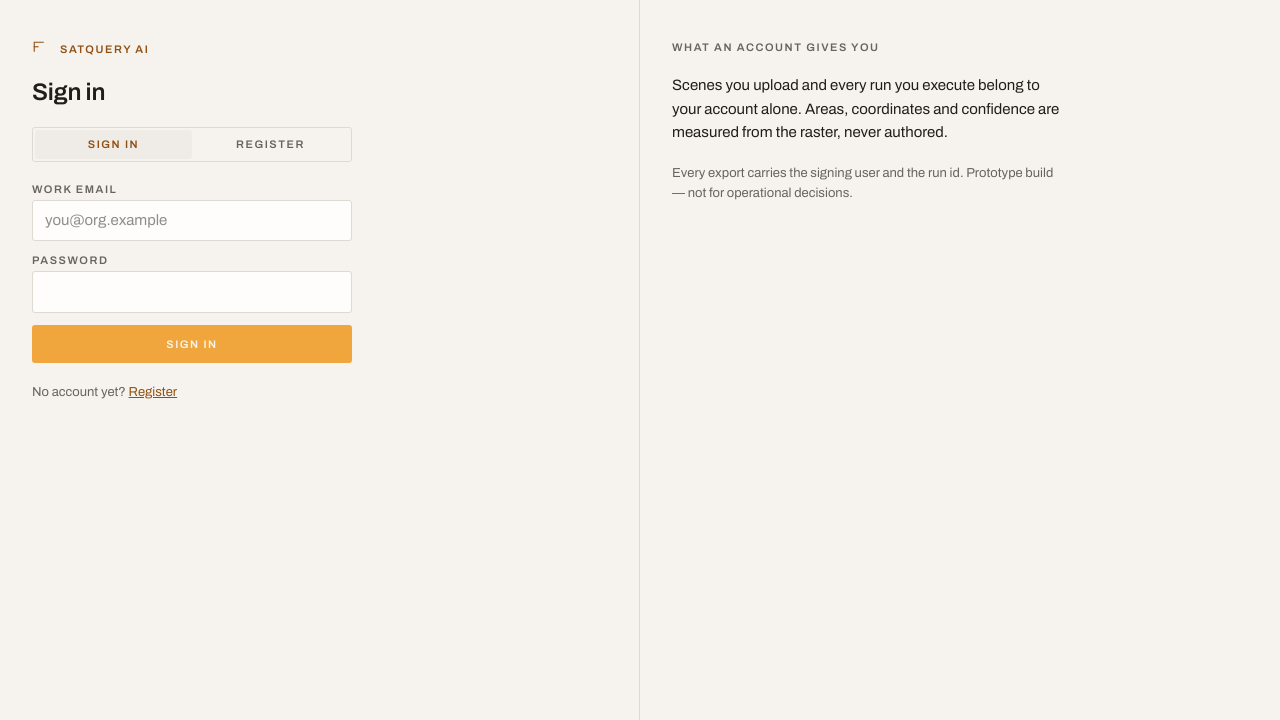
Test case: signing in › shows the backend message when the credentials are wrong
In the field labelled "Work email": (192, 221) [32,200,352,241], type "analyst@example.com"
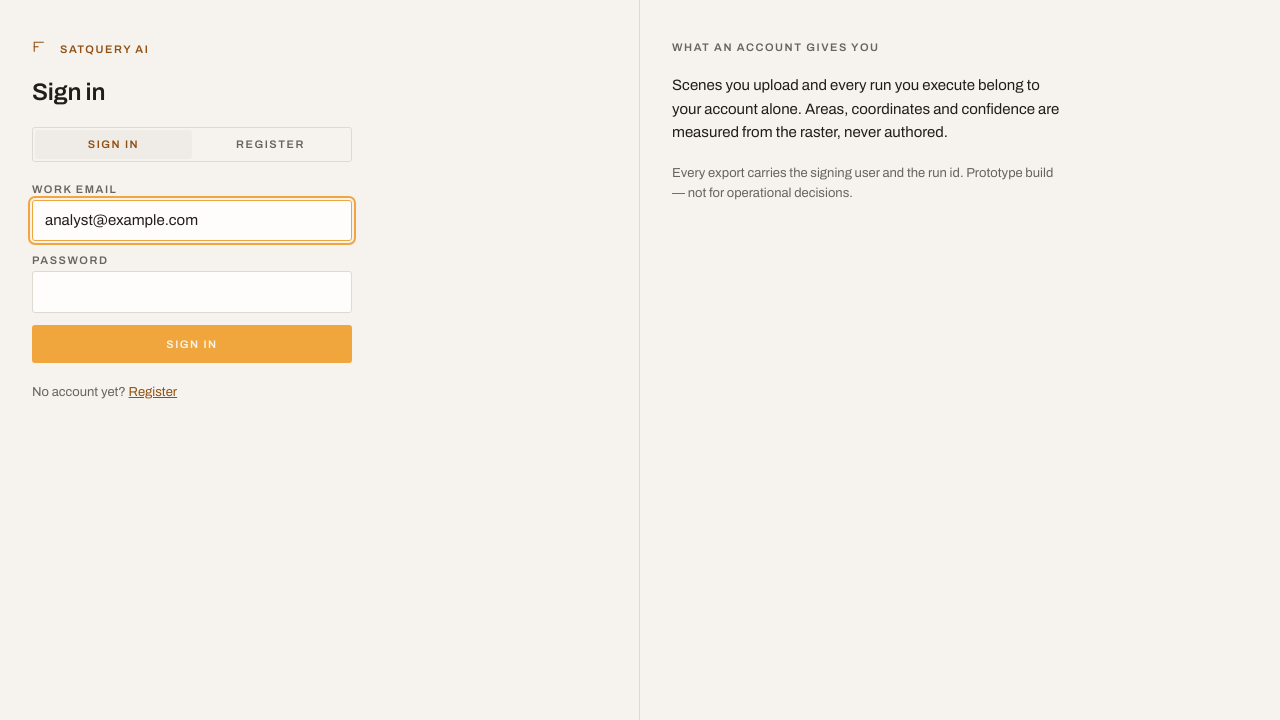
In the password field labelled "Password": (192, 292) [32,271,352,313], type "wrong-password"
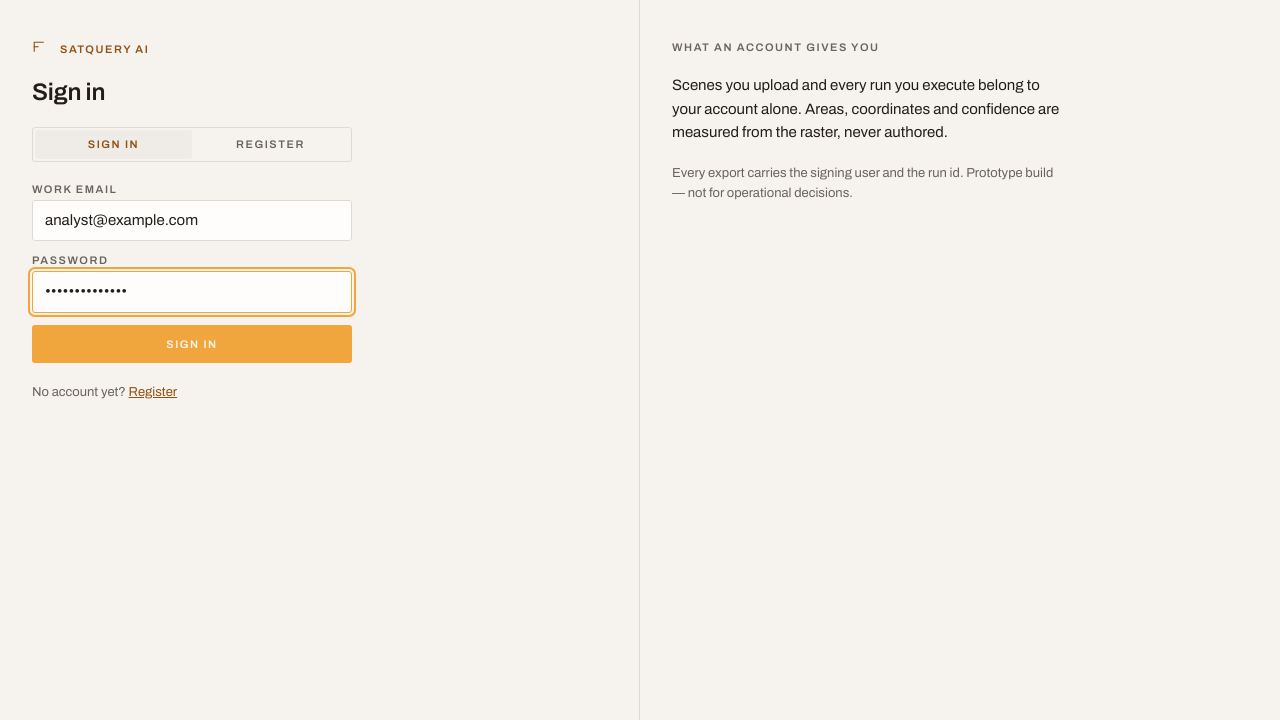
Click the button "Sign in": (192, 344) [32,325,352,363]
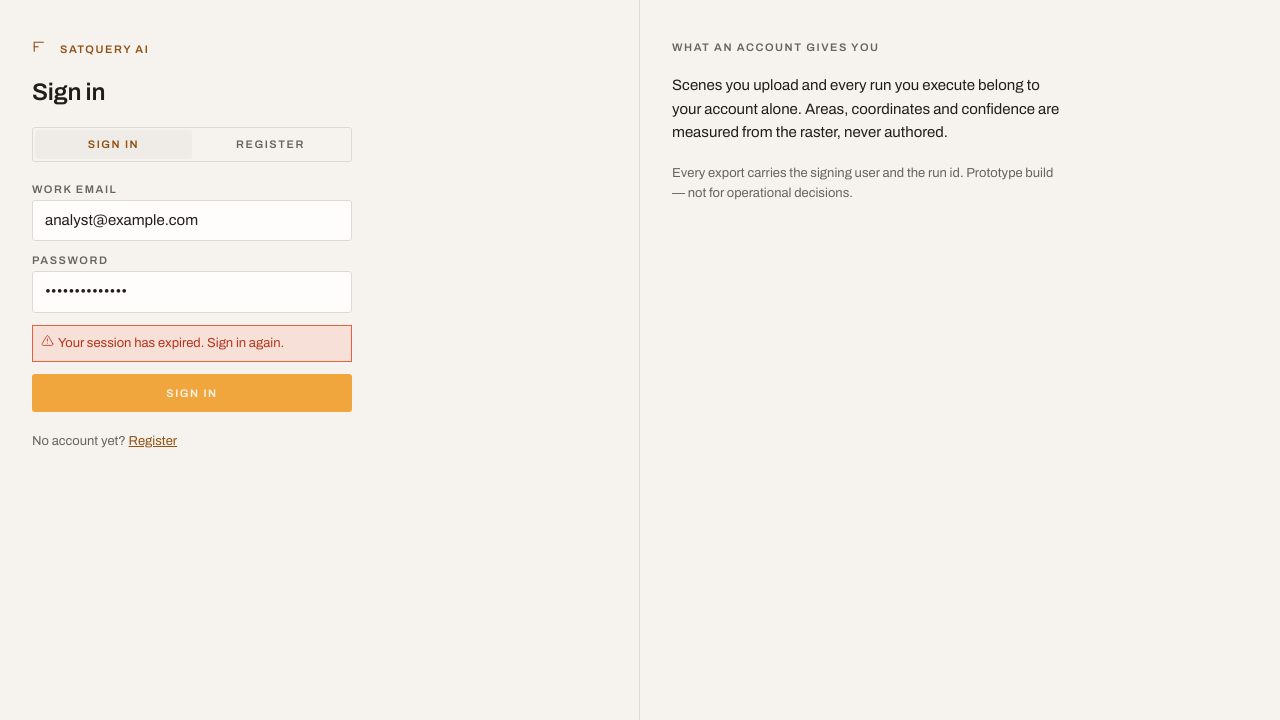
Expected: the message reads "Your session has expired. Sign in again.", [58,336,284,350]
